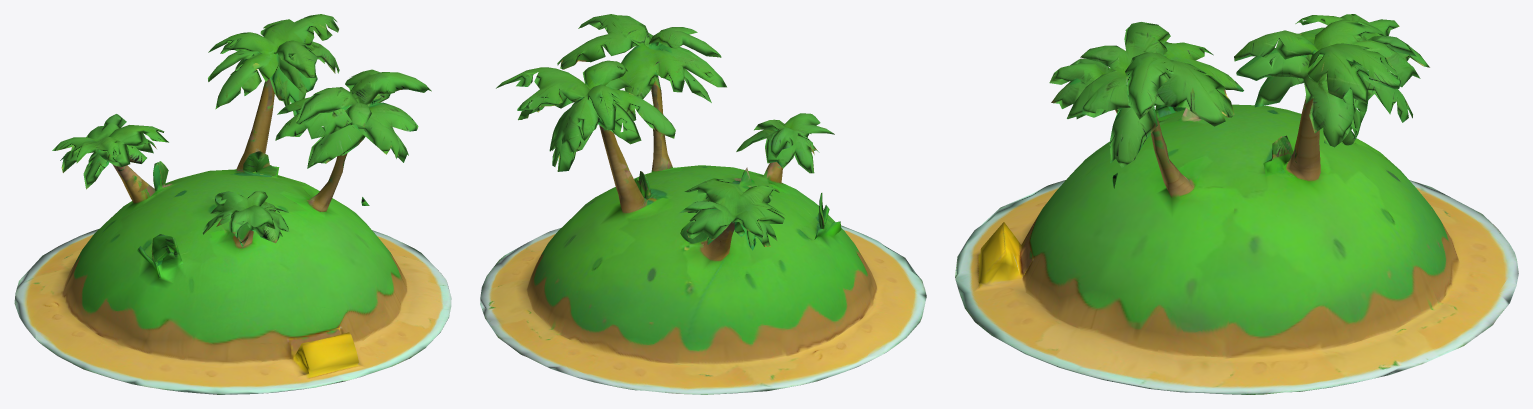
File: island_texture.glb
3 views of the same model, side by side, from view 1: azimuth 30°, elevation 25°; view 2: azimuth 150°, elevation 25°; view 3: azimuth 270°, elevation 25° (orthographic). The views are drawn at different scales.
Bounding box in the file's own units: 1.95 × 1.14 × 1.95.
1 material, 1 textured.
